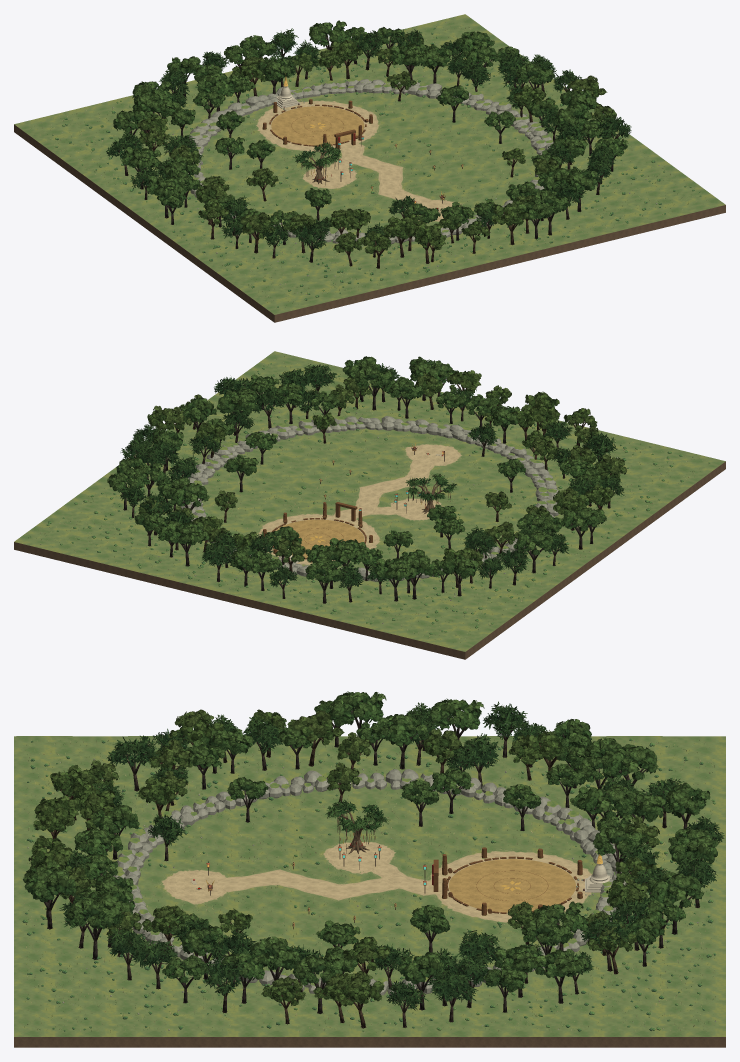
Rendered from prologue-vision.glb.
3 renders of one model, top to bottom at view 1: azimuth 30°, elevation 25°; view 2: azimuth 150°, elevation 25°; view 3: azimuth 270°, elevation 25°, orthographic. The views are drawn at different scales.
Parts seen in each view (by area): view 1: Ground - varied meadow | grass, Soil foundation | earth, Boundary boulders | rock, Courtyard - raked sand floor | sand_raked, Feathered road shoulders | path_edge, Tracks - worn earth | path, Organic understory shrubs | leaf4, Stone moss patches | moss, Tracks - terrace apron | path, Organic understory shrubs | leaf, Organic tree foliage | rain-329.003, Organic tree foliage | rain-329.015 (+34 smaller); view 2: Ground - varied meadow | grass, Soil foundation | earth, Boundary boulders | rock, Feathered road shoulders | path_edge, Courtyard - raked sand floor | sand_raked, Tracks - worn earth | path, Organic understory shrubs | leaf2, Stone moss patches | moss, Organic understory shrubs | leaf4, Organic tree foliage | rain-329.015, Organic tree foliage | rain-329.017, Organic tree foliage | rain-329.019 (+28 smaller); view 3: Ground - varied meadow | grass, Boundary boulders | rock, Soil foundation | earth, Courtyard - raked sand floor | sand_raked, Feathered road shoulders | path_edge, Tracks - worn earth | path, Stone moss patches | moss, Organic understory shrubs | leaf, Tracks - terrace apron | path, Organic understory shrubs | leaf2, Organic tree foliage | rain-329.015, Organic tree foliage | rain-329.017 (+83 smaller).
Boxes of the visible parts, x1,y1,x2,y2 form: Ground - varied meadow | grass: (14,14,725,314); Soil foundation | earth: (14,124,725,322); Boundary boulders | rock: (188,79,553,244); Courtyard - raked sand floor | sand_raked: (271,106,364,145); Feathered road shoulders | path_edge: (256,100,463,221); Tracks - worn earth | path: (327,142,429,204); Organic understory shrubs | leaf4: (52,28,700,307); Stone moss patches | moss: (112,76,626,284); Tracks - terrace apron | path: (260,102,374,150); Organic understory shrubs | leaf: (53,28,701,307); Organic tree foliage | rain-329.003: (196,72,238,96); Organic tree foliage | rain-329.015: (309,20,349,46); Ground - varied meadow | grass: (14,351,725,651); Soil foundation | earth: (14,461,725,659); Boundary boulders | rock: (180,416,558,581); Feathered road shoulders | path_edge: (257,444,461,564); Courtyard - raked sand floor | sand_raked: (274,519,364,557); Tracks - worn earth | path: (335,461,432,522); Organic understory shrubs | leaf2: (46,363,709,634); Stone moss patches | moss: (188,404,661,605); Organic understory shrubs | leaf4: (48,363,709,634); Organic tree foliage | rain-329.015: (165,521,209,545); Organic tree foliage | rain-329.017: (374,557,416,580); Organic tree foliage | rain-329.019: (560,506,599,531); Ground - varied meadow | grass: (14,736,725,1036); Boundary boulders | rock: (113,769,626,995); Soil foundation | earth: (14,1037,725,1047); Courtyard - raked sand floor | sand_raked: (449,859,575,912); Feathered road shoulders | path_edge: (160,841,593,922); Tracks - worn earth | path: (219,857,449,898); Stone moss patches | moss: (29,758,697,1028); Organic understory shrubs | leaf: (22,739,715,1031); Tracks - terrace apron | path: (438,854,588,920); Organic understory shrubs | leaf2: (25,739,716,1031); Organic tree foliage | rain-329.015: (647,872,704,907); Organic tree foliage | rain-329.017: (603,744,658,780).
Size of the model in its own units: 141 by 15.74 by 140.
40 materials, 40 textured.
